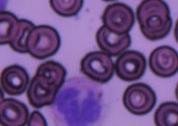N: (49, 74, 118, 126)
